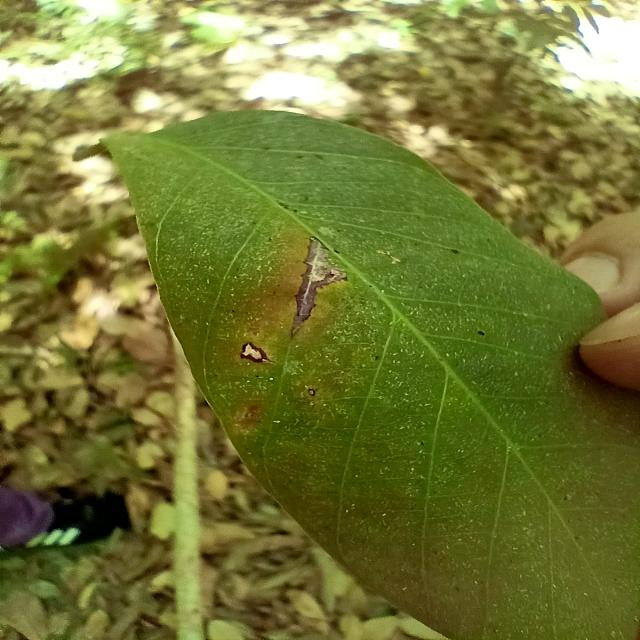Colletotrichum: (307, 388, 316, 396)
Corynespora: (290, 236, 348, 338)
